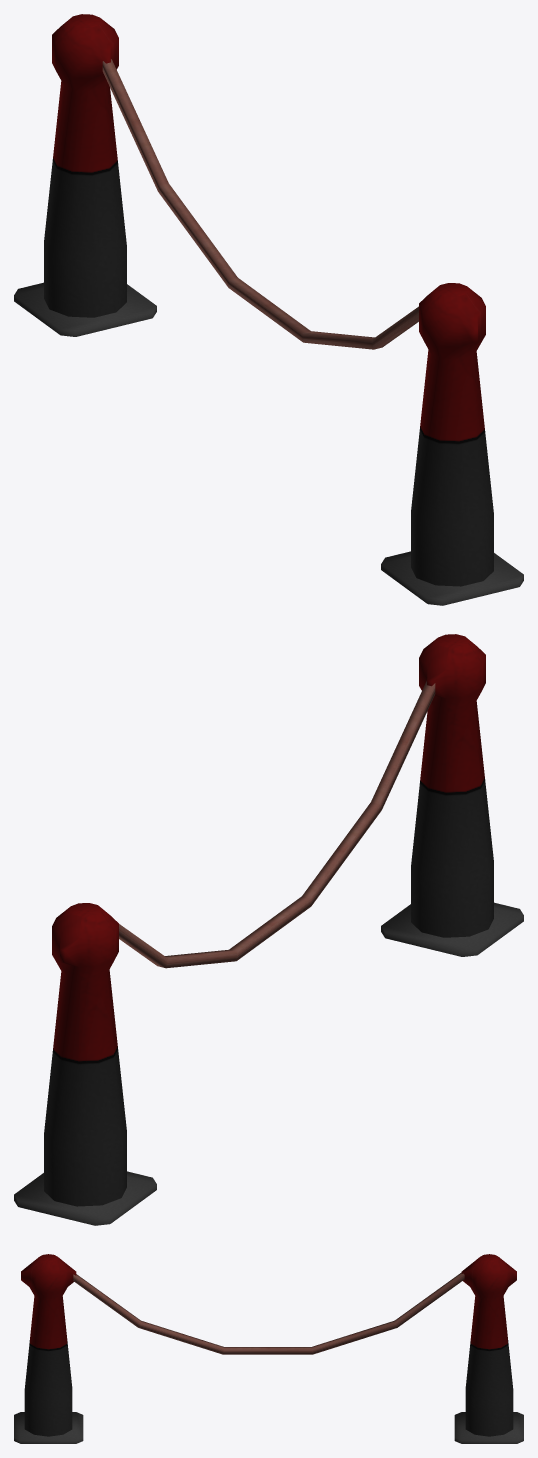
Rendered from fence.FBX.
3 views of the same model, one above another, from view 1: azimuth 30°, elevation 25°; view 2: azimuth 150°, elevation 25°; view 3: azimuth 270°, elevation 25° (orthographic). The views are drawn at different scales.
Visible parts, largest first — view 1: baba_01, baba_002, baba_zincir; view 2: baba_002, baba_01, baba_zincir; view 3: baba_01, baba_002, baba_zincir.
Part boxes in pixels (x1,y1,x2,y2): baba_01: (381,283,523,605); baba_002: (14,14,156,336); baba_zincir: (102,59,418,349); baba_002: (14,903,156,1225); baba_01: (381,634,523,956); baba_zincir: (119,681,435,968); baba_01: (14,1254,83,1443); baba_002: (454,1254,523,1443); baba_zincir: (73,1272,464,1354).
Size of the model in its own units: 56.19 by 159 by 429.
